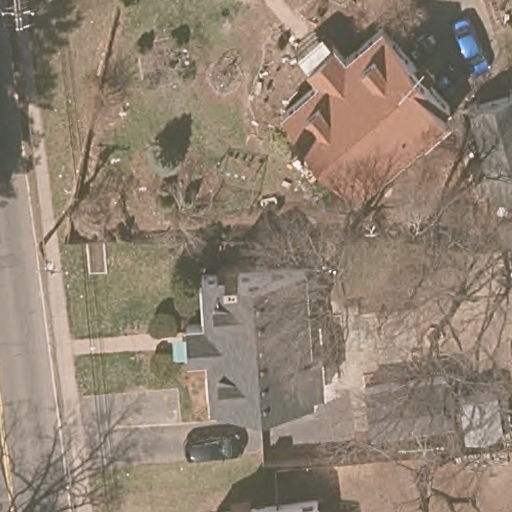DT: (32, 240, 69, 279), (1, 1, 36, 33)
